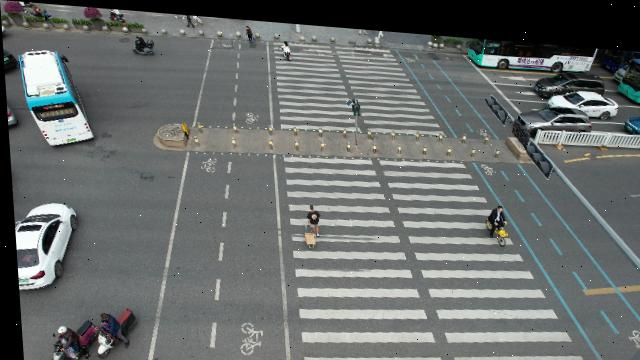non-motor-vehicle: (89, 299, 135, 359), (44, 316, 95, 360), (480, 194, 507, 240), (129, 32, 156, 56), (30, 2, 51, 21), (13, 1, 34, 16), (280, 35, 291, 57), (109, 8, 126, 21)
person: (300, 199, 319, 244), (245, 22, 255, 40), (186, 12, 195, 24), (192, 13, 202, 22)
